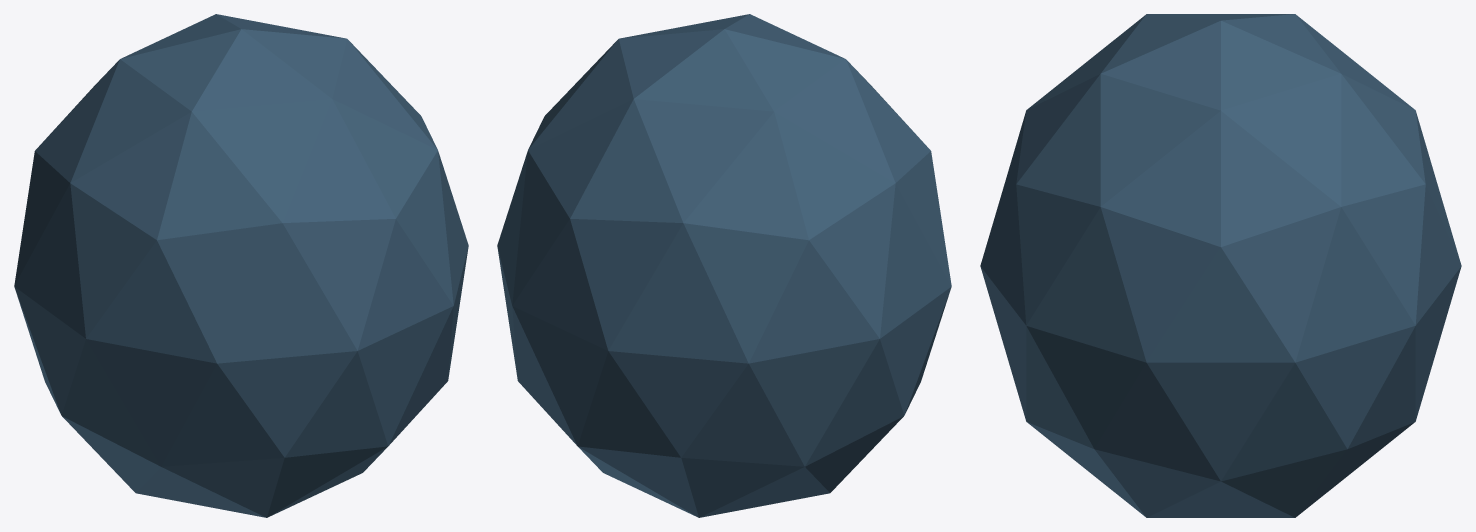
3 views of the same model, side by side, from view 1: azimuth 30°, elevation 25°; view 2: azimuth 150°, elevation 25°; view 3: azimuth 270°, elevation 25° (orthographic). The views are drawn at different scales.
Parts seen in each view (by area): view 1: ai_export.014; view 2: ai_export.014; view 3: ai_export.014.
Part boxes in pixels (x1,y1,x2,y2): ai_export.014: (14,14,468,517); ai_export.014: (497,14,951,517); ai_export.014: (980,14,1461,517).
Bounding box in the file's own units: 0.3043 × 0.36 × 0.32.
